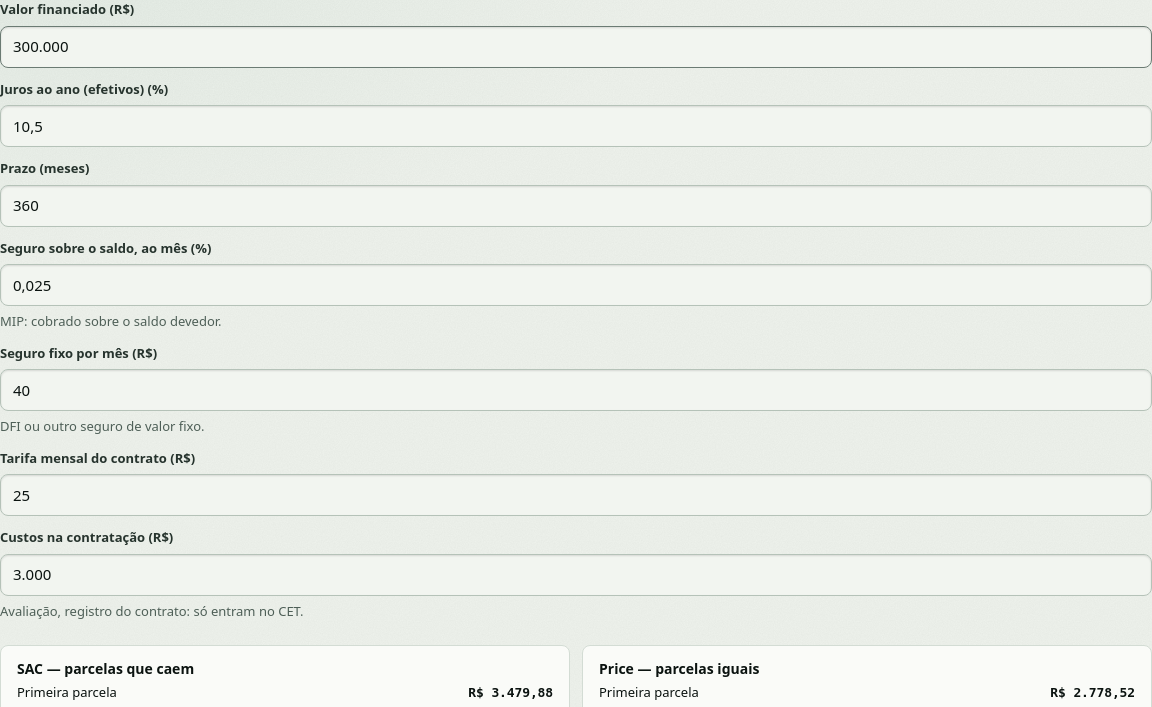
Test: simuladores › financiamento: campo inválido vira explicação, não tela quebrada
The width and height of the screenshot is (1152, 707).
Replace the text in the field labelled "Prazo (meses)" with "0" at (576, 206), box [0,184,1151,226]
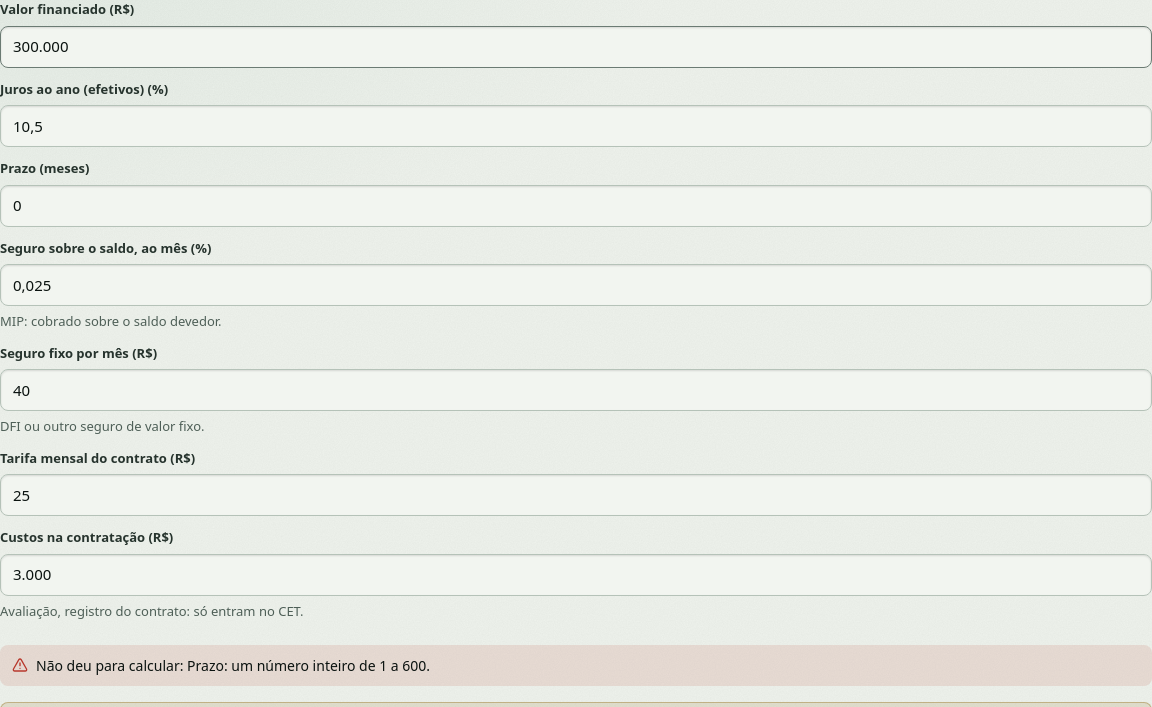
Now the message shows "Prazo", box [187,656,430,675]
